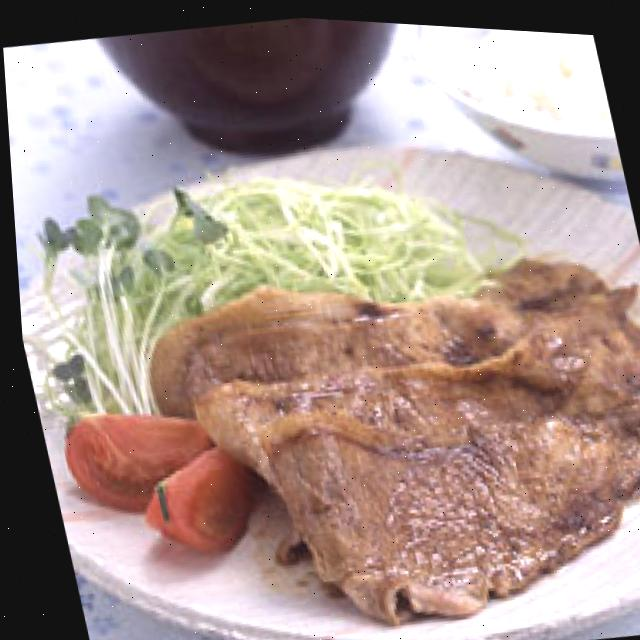猪肉菜式: (125, 213, 640, 640)
